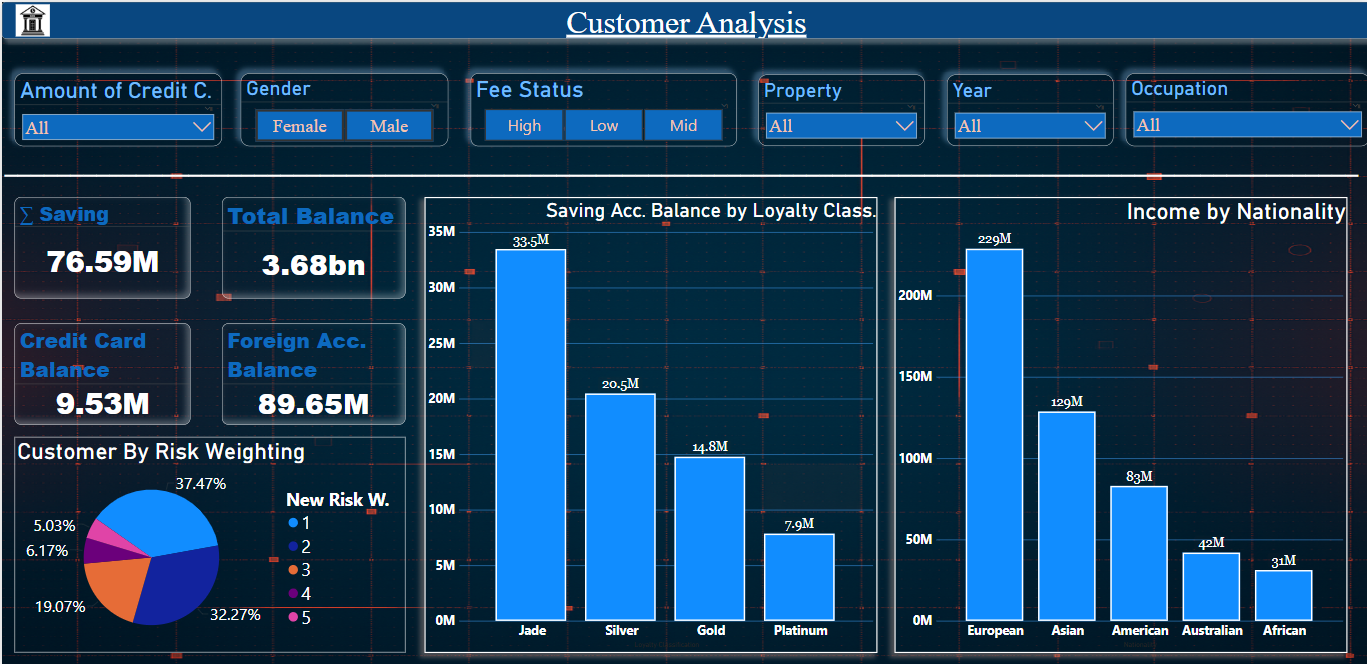

This screenshot's page, from the dashboard's own definition file:
{"tool":"powerbi","page":{"name":"Customer Analysis","canvas":[2880,1400],"ordinal":2},"visuals":[{"type":"textbox","title":"Customer Analysis","box":[0,0,2880,76.7],"z":0},{"type":"image","box":[0,0,130,77.5],"z":1000},{"type":"slicer","title":"Fee Status","fields":{"Values":["Banking_Data_Jup.Fee Structure"]},"box":[986.7,150,560,153.3],"z":2000},{"type":"slicer","title":"Gender","fields":{"Values":["Banking_Data_Jup.Gender"]},"box":[503.3,150,436.7,153.3],"z":3000},{"type":"slicer","title":"Amount of Credit C.","fields":{"Values":["Banking_Data_Jup.Amount of Credit Cards"]},"box":[26.7,150,436.7,153.3],"z":4000},{"type":"slicer","title":"Year","fields":{"Values":["Banking_Data_Jup.Joined Bank"]},"box":[1990,153.3,350,150],"z":5000},{"type":"textbox","title":"__________________________________________________________________________________________________________________","box":[0,303.3,2880,80],"z":6000},{"type":"card","title":"Total Balance","fields":{"Values":["Sum(Banking_Data_Jup.Total balance)"]},"box":[463.3,410,386.7,213.3],"z":7000},{"type":"card","title":"∑ Saving","fields":{"Values":["Sum(Banking_Data_Jup.Superannuation Savings)"]},"box":[26.7,410,370,213.3],"z":8000},{"type":"card","title":" Credit Card Balance","fields":{"Values":["Sum(Banking_Data_Jup.Credit Card Balance)"]},"box":[26.7,676.7,370,213.3],"z":9000},{"type":"card","title":"Foreign Acc. Balance","fields":{"Values":["Sum(Banking_Data_Jup.Foreign Currency Account)"]},"box":[463.3,676.7,386.7,213.3],"z":10000},{"type":"pieChart","title":"Customer By Risk Weighting","fields":{"Category":["Banking_Data_Jup.New Risk Weighting"],"Y":["CountNonNull(Banking_Data_Jup.Client ID)"]},"box":[26.7,916.7,823.3,453.3],"z":11000},{"type":"columnChart","title":"Income by Nationality","fields":{"Category":["Banking_Data_Jup.Nationality"],"Y":["Sum(Banking_Data_Jup.Estimated Income)"]},"box":[1880,410,953.3,960],"z":12000},{"type":"slicer","title":"Occupation","fields":{"Values":["Banking_Data_Jup.Occupation"]},"box":[2366.7,150,513.3,153.3],"z":13000},{"type":"slicer","title":"Property","fields":{"Values":["Banking_Data_Jup.Properties Owned"]},"box":[1593.3,153.3,350,150],"z":14000},{"type":"columnChart","title":"Saving Acc. Balance by Loyalty Class.","fields":{"Y":["Sum(Banking_Data_Jup.Superannuation Savings)"],"Category":["Banking_Data_Jup.Loyalty Classification"]},"box":[890,410,953.3,960],"z":15000}]}

Visuals, with their boxes in screenshot pixels (x1, y1, x2, y2), scaled from the page's 2880x1400 canvas onto the 1367x664 screenshot:
"Customer Analysis" textbox: bbox(0, 0, 1366, 36)
image: bbox(0, 0, 62, 37)
"Fee Status" slicer: bbox(468, 71, 734, 144)
"Gender" slicer: bbox(239, 71, 446, 144)
"Amount of Credit C." slicer: bbox(13, 71, 220, 144)
"Year" slicer: bbox(945, 73, 1111, 144)
"__________________________________________________________________________________________________________________" textbox: bbox(0, 144, 1366, 182)
"Total Balance" card: bbox(220, 194, 403, 296)
"∑ Saving" card: bbox(13, 194, 188, 296)
" Credit Card Balance" card: bbox(13, 321, 188, 422)
"Foreign Acc. Balance" card: bbox(220, 321, 403, 422)
"Customer By Risk Weighting" pieChart: bbox(13, 435, 403, 650)
"Income by Nationality" columnChart: bbox(892, 194, 1345, 650)
"Occupation" slicer: bbox(1123, 71, 1366, 144)
"Property" slicer: bbox(756, 73, 922, 144)
"Saving Acc. Balance by Loyalty Class." columnChart: bbox(422, 194, 875, 650)
